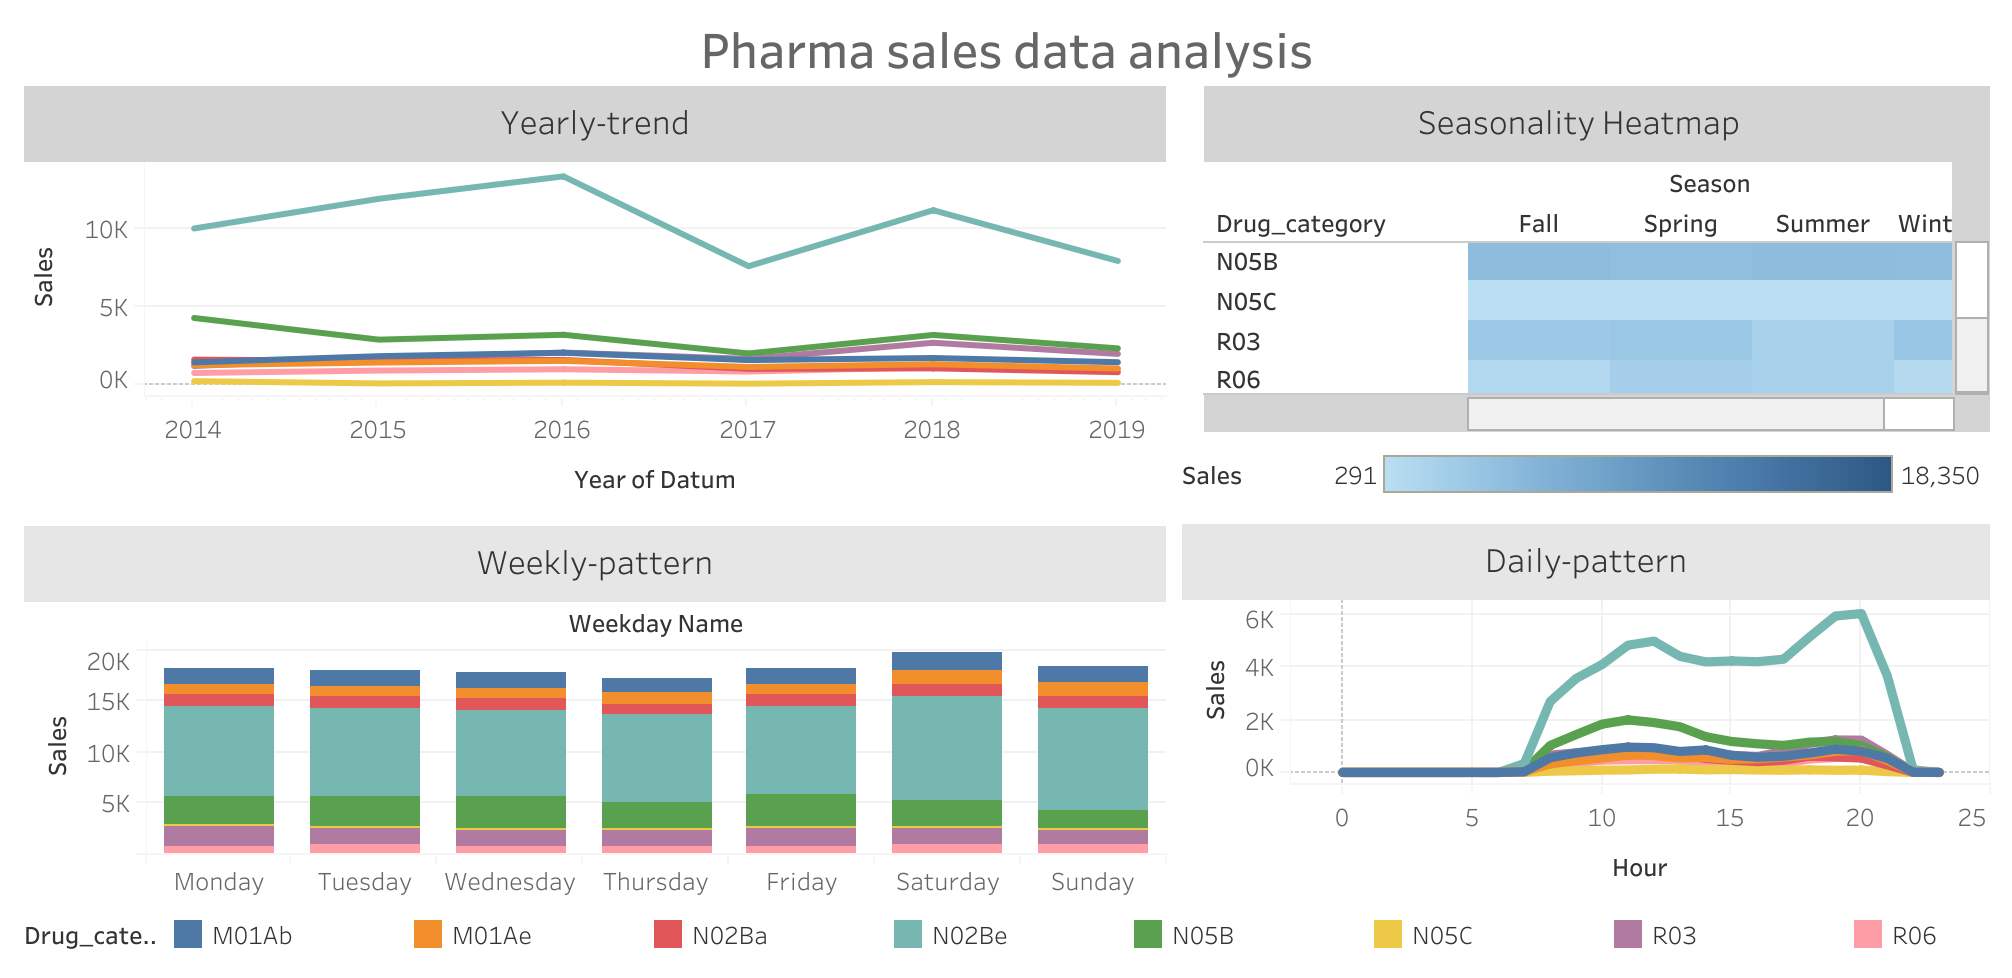

Layout of this report page (visuals, bound fields, positions):
{"tool":"tableau","page":{"name":"Dashboard","canvas":[1000,1000],"units":"permille","ordinal":0},"visuals":[{"type":"text","box":[9.2,14.9,981.6,63.4]},{"type":"worksheet","title":"Yearly-trend","mark":"Automatic","rows":["Pivot Field Values"],"cols":["datum"],"box":[9.2,78.4,573.5,449.6]},{"type":"worksheet","title":"Seasonality Heatmap","mark":"Automatic","rows":["Pivot Field Names"],"cols":["Calculation_1036864730017792"],"box":[582.7,78.4,408.1,371]},{"type":"legend","title":"Seasonality Heatmap","param":"[federated.03oqh9u0y8kazc13wpf3z1bod5sh].[sum:Pivot Field Values:qk]","box":[582.7,449.4,408.1,78.4]},{"type":"worksheet","title":"Daily-pattern","mark":"Automatic","rows":["Pivot Field Values"],"cols":["Hour"],"box":[582.7,527.8,408.1,397.5]},{"type":"worksheet","title":"Weekly-pattern","mark":"Automatic","rows":["Pivot Field Values"],"cols":["Weekday Name"],"box":[9.2,527.9,573.5,397.4]},{"type":"legend","title":"Daily-pattern","param":"[federated.1h5c5g60qqegjs1362f2w0b83buu].[none:Pivot Field Names:nk]","box":[9.2,925.3,981.6,59.8]}]}

Visuals, with their boxes on the dashboard's canvas, which has no fixed pixel size, in thousandths of its width and height (x1, y1, x2, y2). These are canvas units, not pixel positions in the 2012x978 screenshot, which may show the page scaled, cropped or inside an application window:
text: 9,15,991,78
"Yearly-trend" worksheet: 9,78,583,528
"Seasonality Heatmap" worksheet: 583,78,991,449
"Seasonality Heatmap" legend: 583,449,991,528
"Daily-pattern" worksheet: 583,528,991,925
"Weekly-pattern" worksheet: 9,528,583,925
"Daily-pattern" legend: 9,925,991,985
